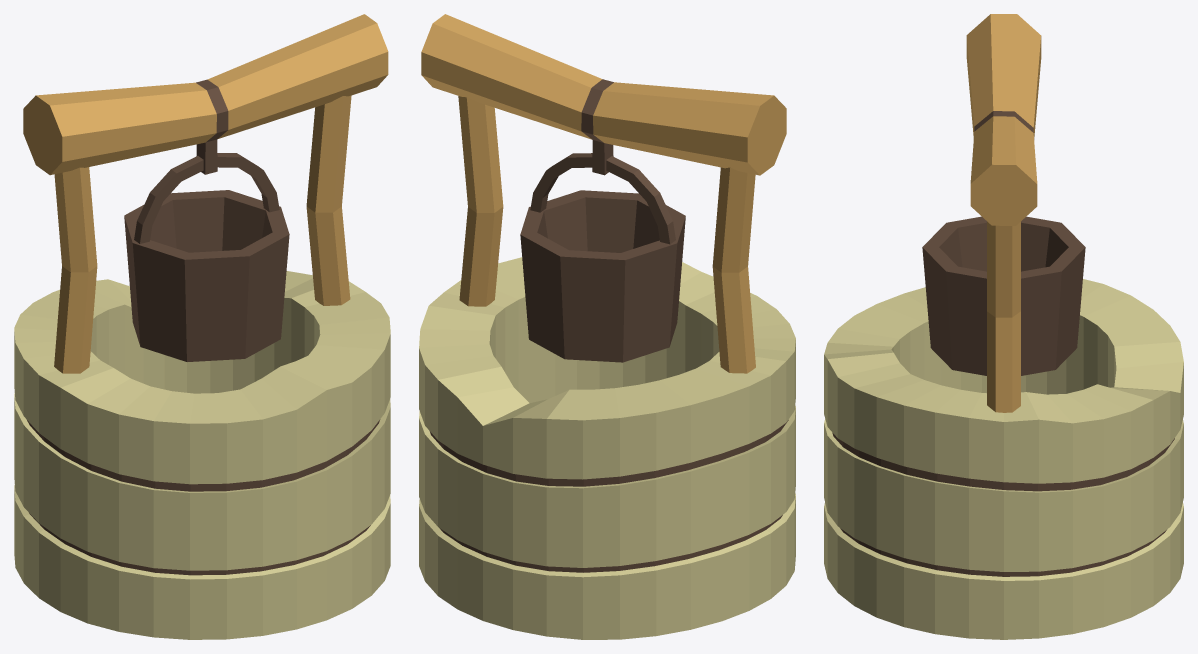
File: Well.glb
The picture shows the model from 3 angles, left to right: view 1: azimuth 30°, elevation 25°; view 2: azimuth 150°, elevation 25°; view 3: azimuth 270°, elevation 25°; orthographic projection. The views are drawn at different scales.
Visible parts, largest first — view 1: Well; view 2: Well; view 3: Well.
Boxes of the visible parts, x1,y1,x2,y2 form: Well: (14, 14, 390, 639); Well: (419, 14, 795, 639); Well: (824, 14, 1183, 639).
Bounding box in the file's own units: 2.03 × 2.96 × 2.
